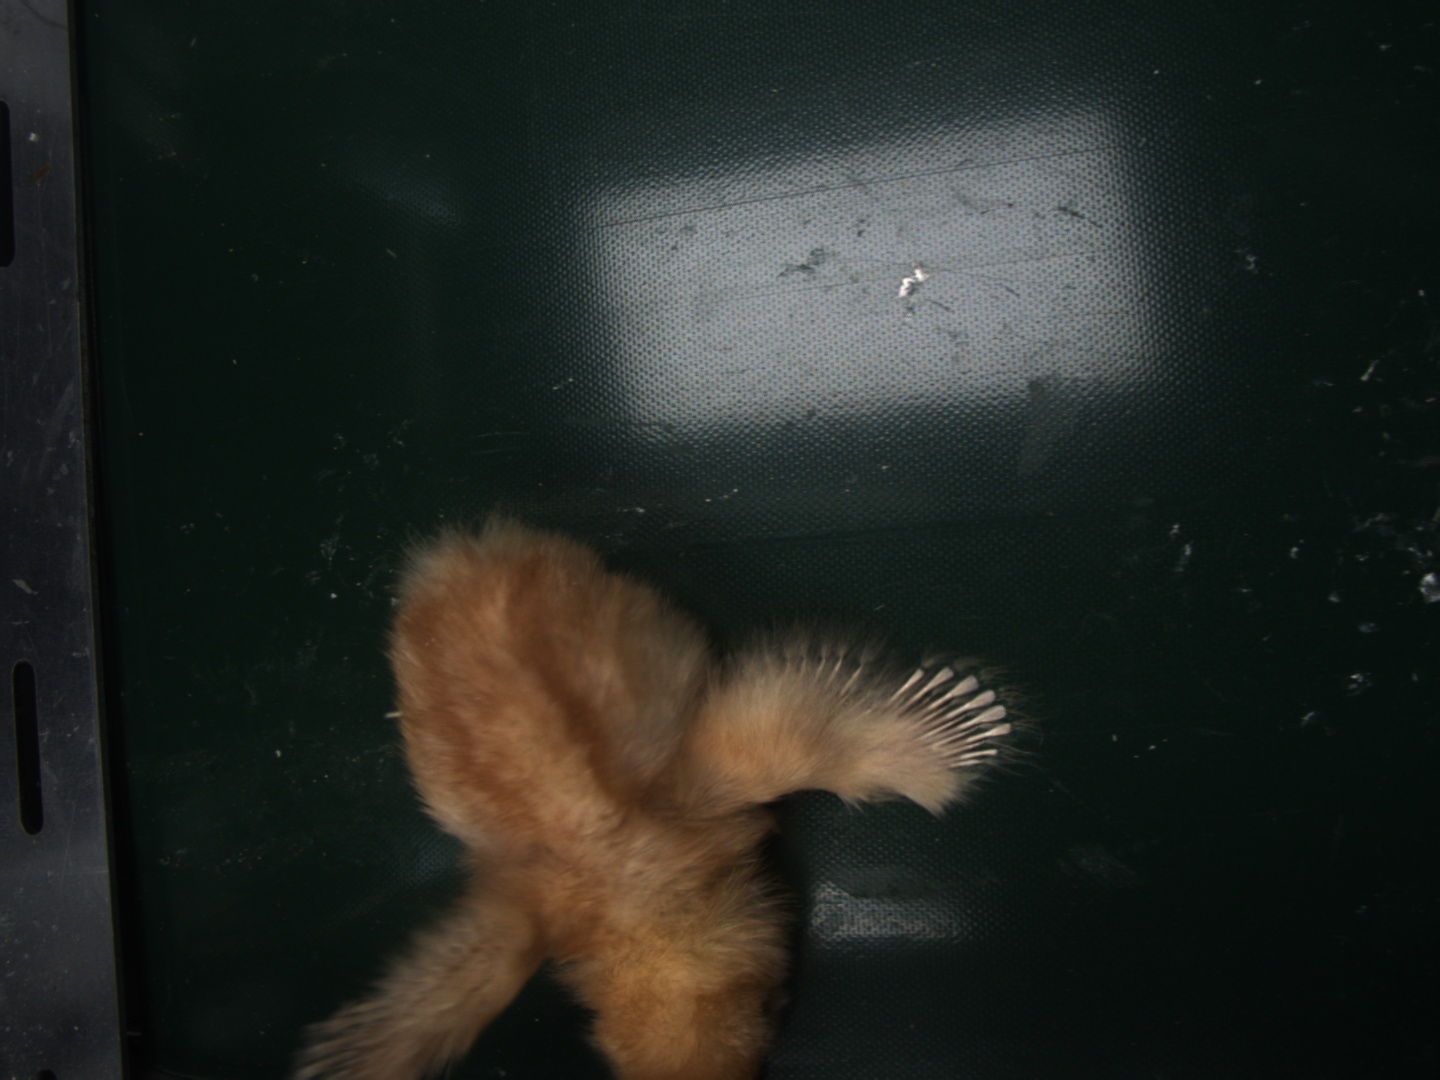female: (889, 665, 1014, 773)
